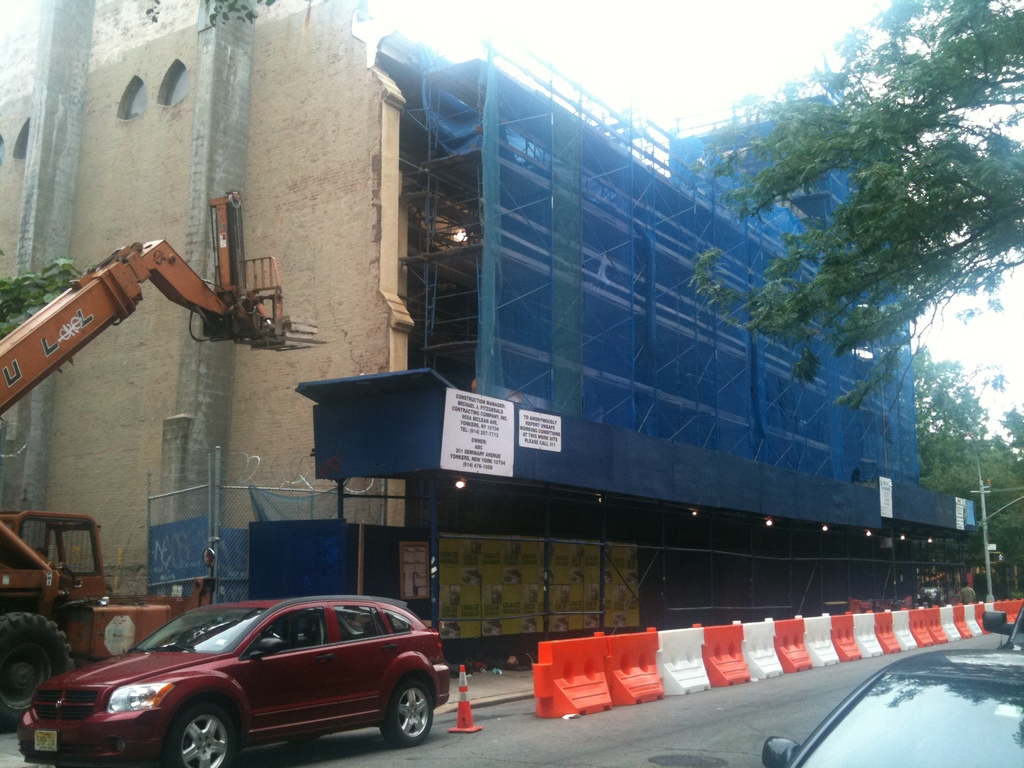Car: (16, 588, 445, 767), (759, 649, 1022, 764), (982, 601, 1023, 641)
